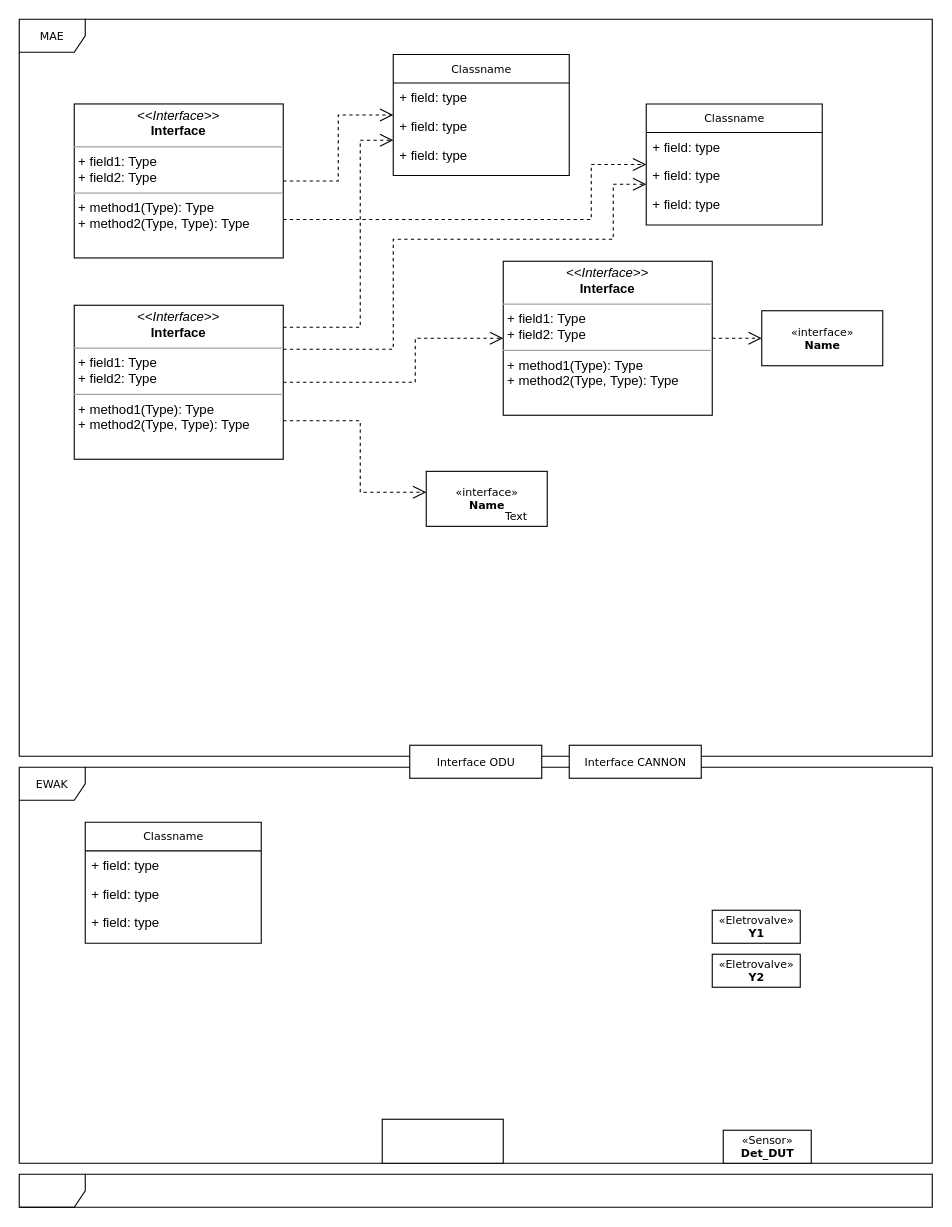
Image size: 952x1227. Some labels were removed from this diagram. The shapes that lost their labels are listed below. From the top down, each one's centre as x and y in pixels, then its label:
the point at 442,1140: Bucha Connector
the point at 475,1190: DUT
